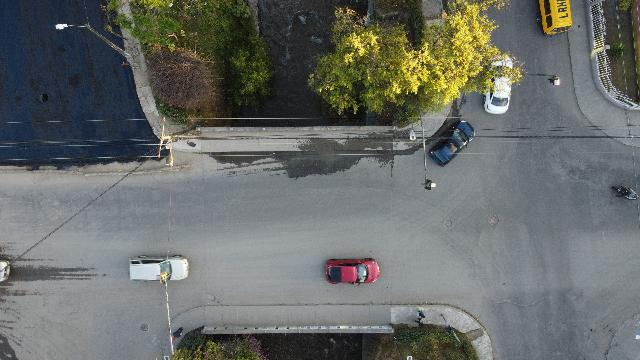Vehiculo: (429, 120, 475, 166), (483, 56, 512, 114), (129, 255, 189, 282), (324, 258, 380, 284), (536, 1, 572, 36)
